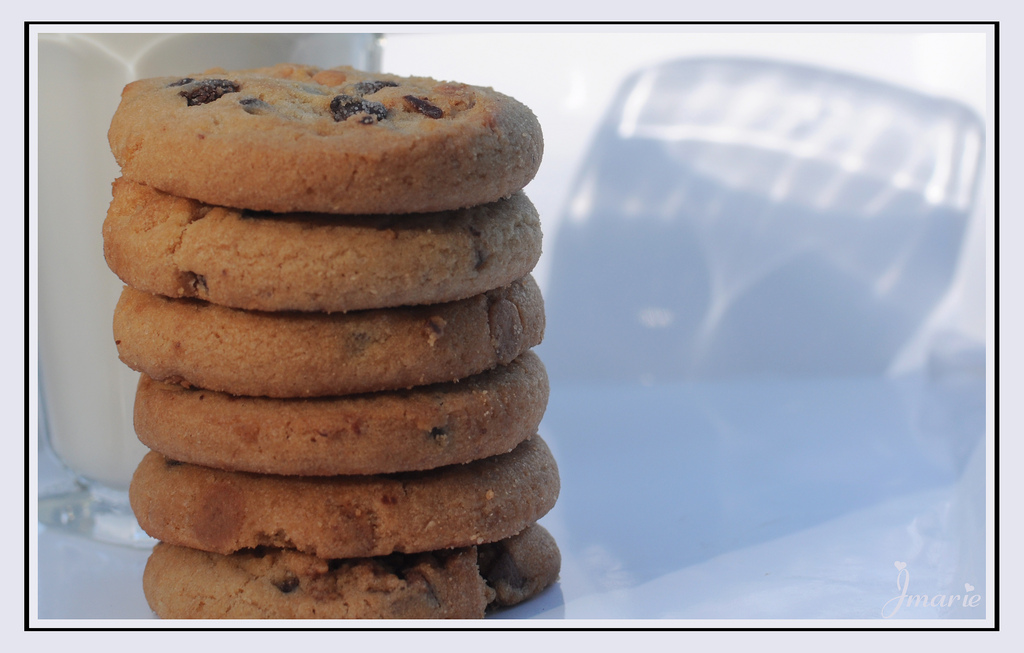slice of bread: (120, 185, 558, 302), (129, 80, 529, 205), (118, 287, 558, 371), (137, 373, 555, 456), (150, 460, 567, 534)
